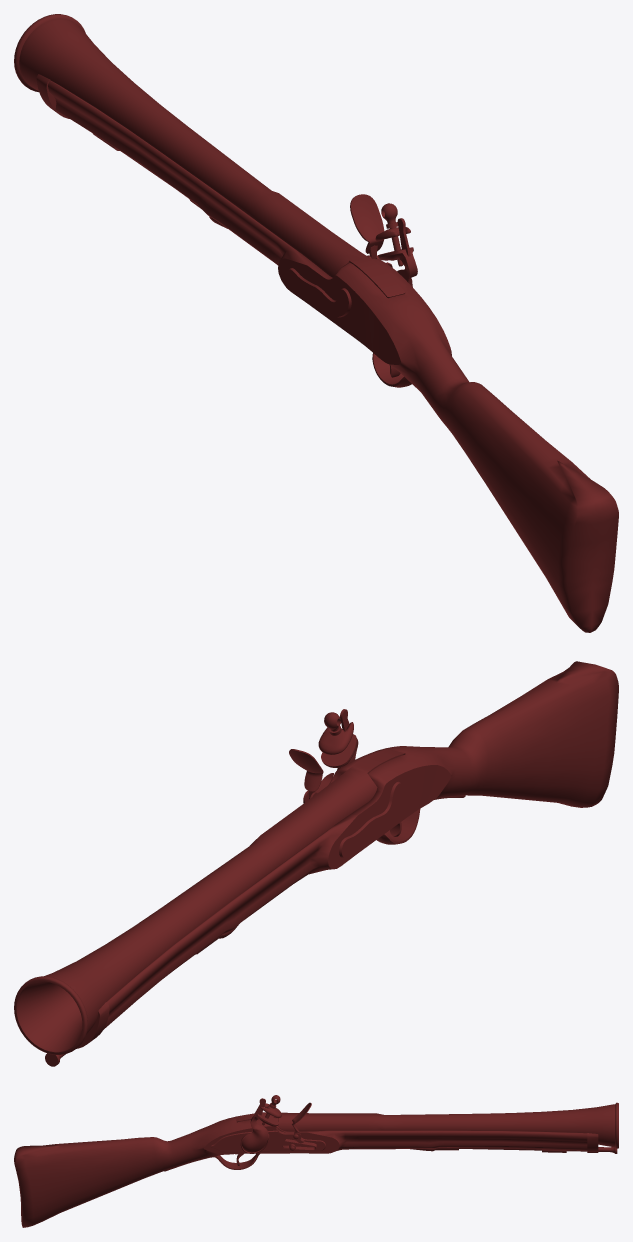
The model's file is Blunderbuss.fbx.
The picture shows the model from 3 angles, top to bottom: view 1: azimuth 30°, elevation 25°; view 2: azimuth 150°, elevation 25°; view 3: azimuth 270°, elevation 25°; orthographic projection. The views are drawn at different scales.
Parts seen in each view (by area): view 1: Blunderbuss; view 2: Blunderbuss; view 3: Blunderbuss.
Part boxes in pixels (box(x1,y1,x2,y2)): Blunderbuss: box(14, 14, 618, 632); Blunderbuss: box(14, 661, 618, 1066); Blunderbuss: box(14, 1095, 618, 1227).
Bounding box in the file's own units: 30.1 × 91.09 × 358.
